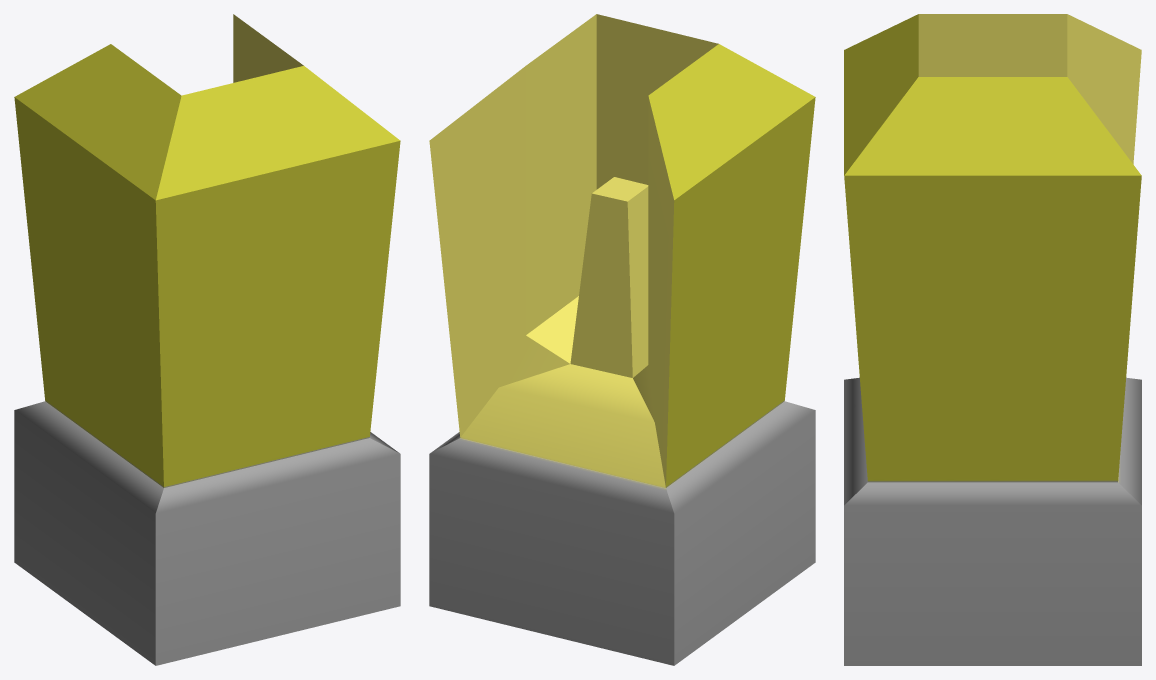
The model's file is nightlight_1.fbx.
3 views of the same model, side by side, from view 1: azimuth 30°, elevation 25°; view 2: azimuth 150°, elevation 25°; view 3: azimuth 270°, elevation 25° (orthographic). The views are drawn at different scales.
Visible parts, largest first — view 1: pCube1; view 2: pCube1; view 3: pCube1.
Part boxes in pixels (x1=…): pCube1: x1=14, y1=14, x2=400, y2=665; pCube1: x1=429, y1=14, x2=815, y2=665; pCube1: x1=844, y1=14, x2=1141, y2=665.
Size of the model in its own units: 0.4933 by 1.02 by 0.4933.
